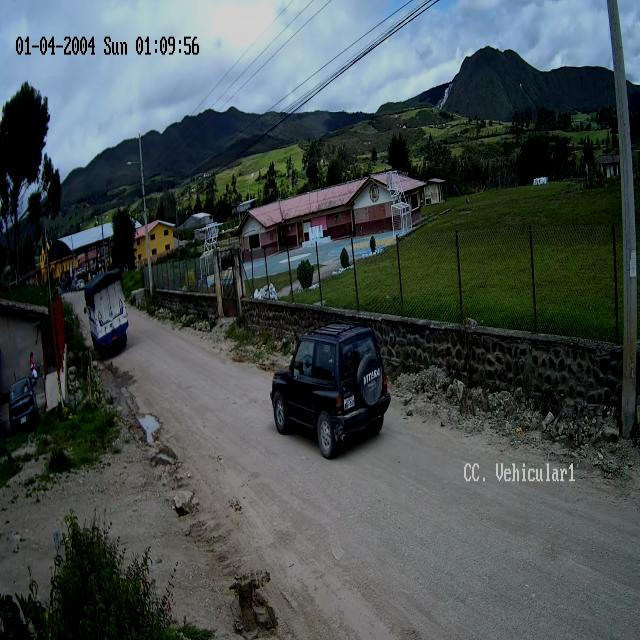SUV: (270, 323, 390, 460)
